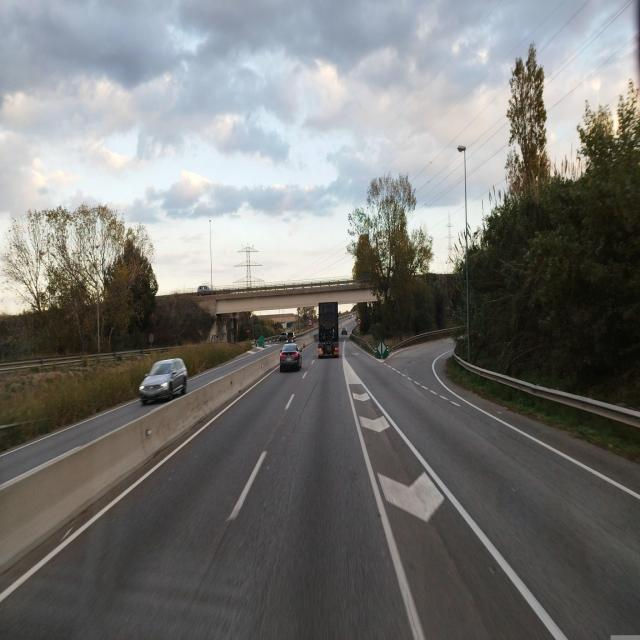car: (138, 357, 188, 405), (278, 342, 302, 372)
